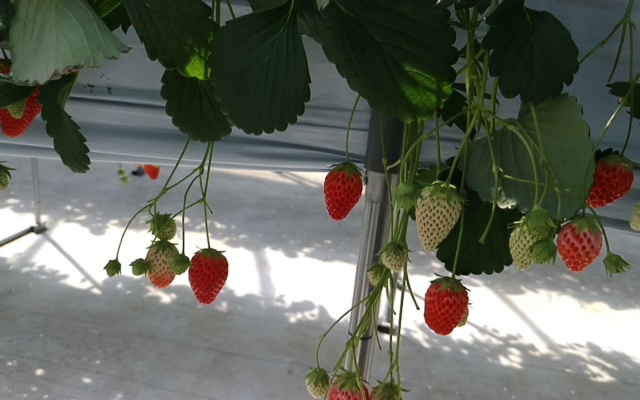GreenStrawberry: (415, 177, 462, 254), (507, 206, 551, 274), (143, 240, 184, 292), (302, 365, 331, 398), (381, 238, 406, 274), (148, 213, 178, 242)
MatureStrawberry: (1, 55, 62, 141), (584, 146, 637, 211), (555, 211, 606, 276), (422, 275, 469, 336), (322, 157, 364, 223), (187, 247, 229, 306), (327, 368, 371, 400)
